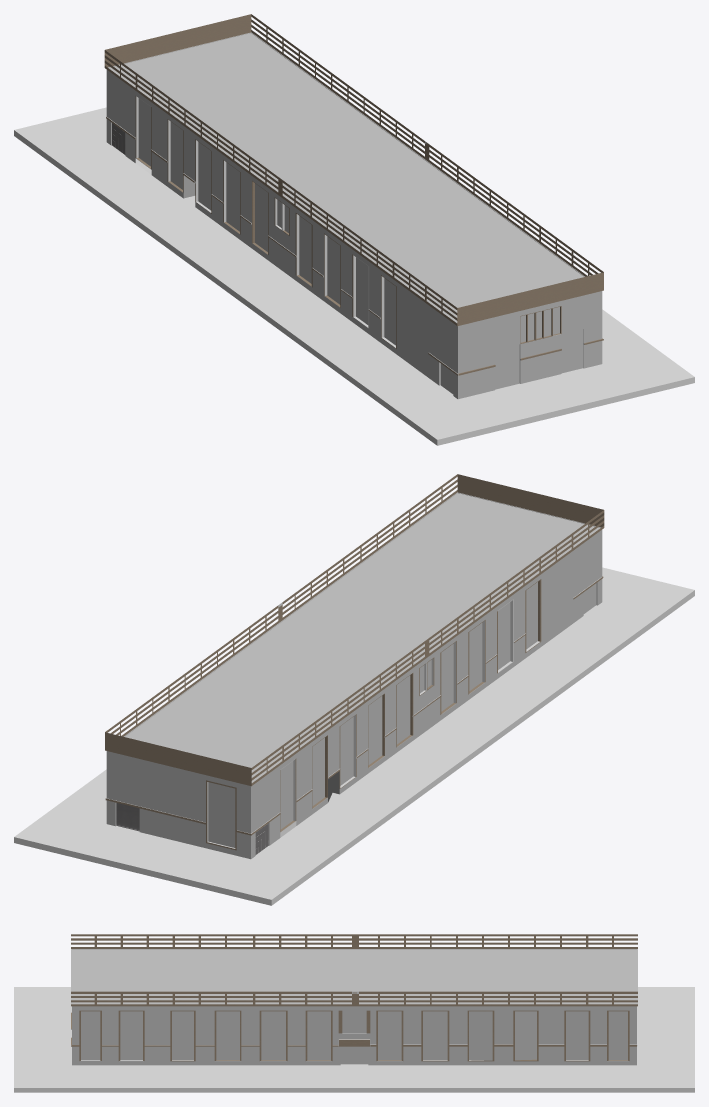
The model's file is Build_Research (1).fbx.
3 views of the same model, one above another, from view 1: azimuth 30°, elevation 25°; view 2: azimuth 150°, elevation 25°; view 3: azimuth 270°, elevation 25° (orthographic). The views are drawn at different scales.
Visible parts, largest first — view 1: build, floor; view 2: build, floor; view 3: build, floor.
Part boxes in pixels (left/top/right/bottom): build: left=104, top=14, right=603, bottom=399; floor: left=14, top=107, right=694, bottom=445; build: left=105, top=474, right=604, bottom=859; floor: left=14, top=567, right=694, bottom=905; build: left=71, top=934, right=637, bottom=1065; floor: left=14, top=987, right=694, bottom=1092.
Bounding box in the file's own units: 11876 × 4172 × 1523.
